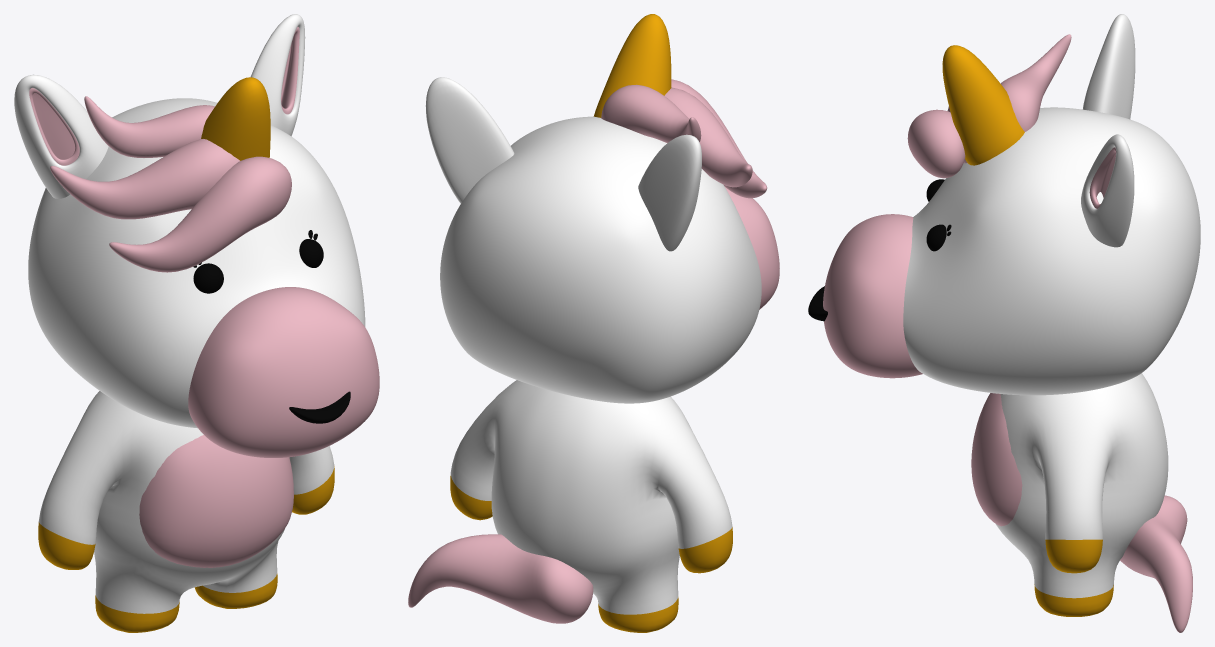
The model's file is Unicorn_3d.glb.
3 views of the same model, side by side, from view 1: azimuth 30°, elevation 25°; view 2: azimuth 150°, elevation 25°; view 3: azimuth 270°, elevation 25° (orthographic). The views are drawn at different scales.
Visible parts, largest first — view 1: Cube.034, Cube.048, Cube.047, Cube.049, Cube.035, Cube.036, Cube.044, Cube.045, Cube.043, Cube.046, Sphere.008, Cube.087; view 2: Cube.034, Cube.048, Cube.036, Cube.050, Cube.043, Cube.045, Cube.044, Cube.047, Cube.035; view 3: Cube.034, Cube.048, Cube.047, Cube.036, Cube.043, Cube.050, Cube.049, Cube.035, Cube.045, Cube.046, Sphere.008.
Boxes of the visible parts, x1=… form: Cube.034: x1=28, y1=98, x2=365, y2=428; Cube.048: x1=38, y1=391, x2=334, y2=632; Cube.047: x1=188, y1=287, x2=379, y2=457; Cube.049: x1=139, y1=435, x2=293, y2=567; Cube.035: x1=109, y1=156, x2=291, y2=272; Cube.036: x1=14, y1=14, x2=305, y2=198; Cube.044: x1=50, y1=139, x2=239, y2=219; Cube.045: x1=84, y1=96, x2=214, y2=157; Cube.043: x1=201, y1=77, x2=270, y2=160; Cube.046: x1=29, y1=27, x2=299, y2=165; Sphere.008: x1=193, y1=239, x2=323, y2=293; Cube.087: x1=289, y1=391, x2=350, y2=423; Cube.034: x1=440, y1=116, x2=761, y2=403; Cube.048: x1=450, y1=380, x2=732, y2=632; Cube.036: x1=425, y1=77, x2=701, y2=251; Cube.050: x1=408, y1=534, x2=593, y2=623; Cube.043: x1=593, y1=14, x2=671, y2=117; Cube.045: x1=601, y1=84, x2=701, y2=143; Cube.044: x1=664, y1=87, x2=752, y2=187; Cube.047: x1=725, y1=187, x2=779, y2=309; Cube.035: x1=671, y1=79, x2=767, y2=198; Cube.034: x1=903, y1=107, x2=1200, y2=395; Cube.048: x1=996, y1=373, x2=1168, y2=616; Cube.047: x1=823, y1=214, x2=922, y2=378; Cube.036: x1=1081, y1=14, x2=1135, y2=247; Cube.043: x1=942, y1=45, x2=1024, y2=165; Cube.050: x1=1120, y1=495, x2=1192, y2=632; Cube.049: x1=971, y1=393, x2=1022, y2=526; Cube.035: x1=907, y1=109, x2=965, y2=178; Cube.045: x1=1000, y1=34, x2=1071, y2=131; Cube.046: x1=1089, y1=147, x2=1116, y2=208; Sphere.008: x1=926, y1=179, x2=946, y2=251.
Size of the model in its own units: 3.19 by 5.96 by 3.94.
